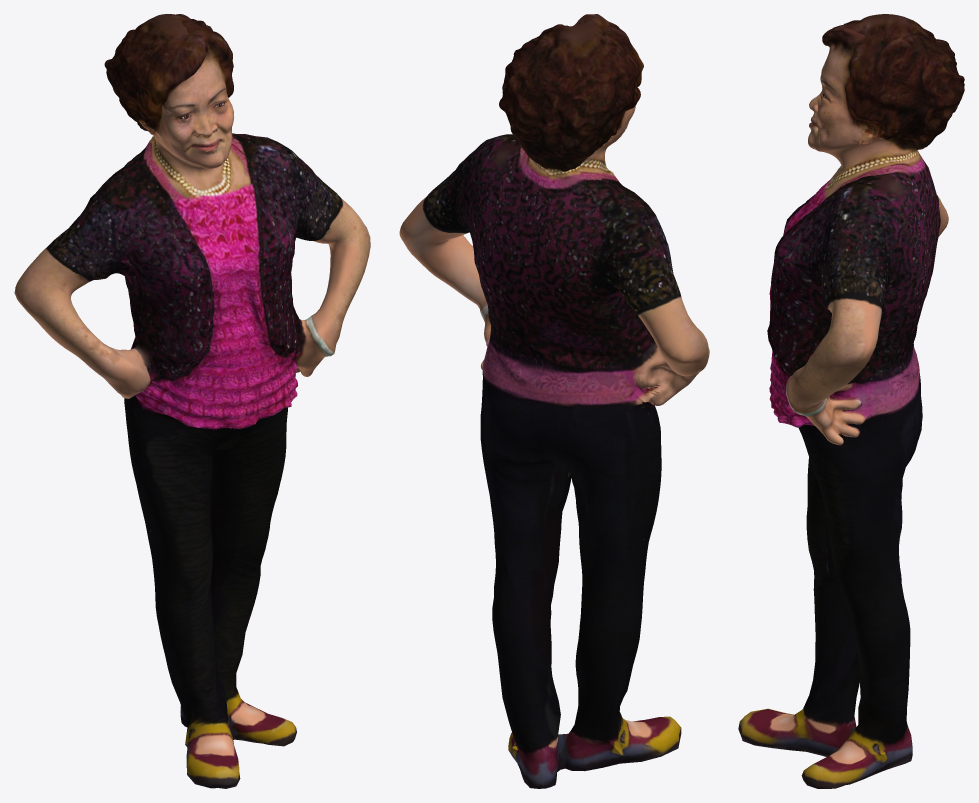
File: woman11.glb
The picture shows the model from 3 angles, left to right: view 1: azimuth 30°, elevation 25°; view 2: azimuth 150°, elevation 25°; view 3: azimuth 270°, elevation 25°; orthographic projection. The views are drawn at different scales.
Visible parts, largest first — view 1: Object_2; view 2: Object_2; view 3: Object_2.
Boxes of the visible parts, x1,y1,x2,y2 form: Object_2: (14,14,370,788); Object_2: (399,14,709,788); Object_2: (738,14,964,788).
Size of the model in its own units: 682 by 1488 by 419.
2 materials, 2 textured.
